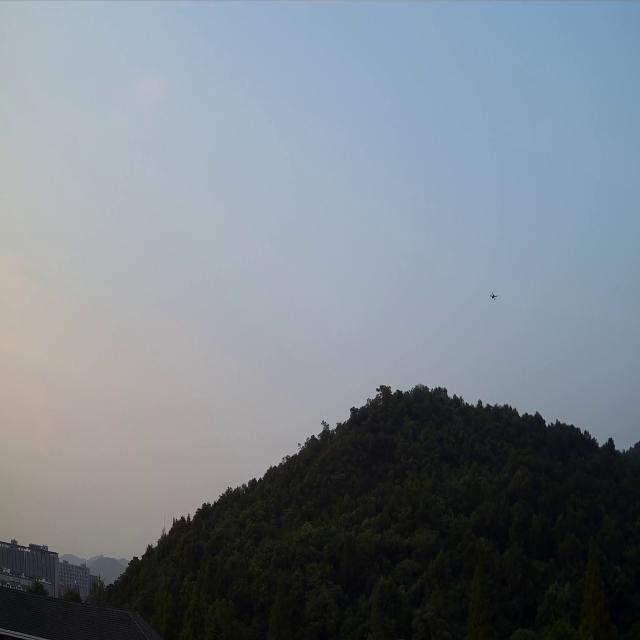UAV: (488, 290, 499, 302)
